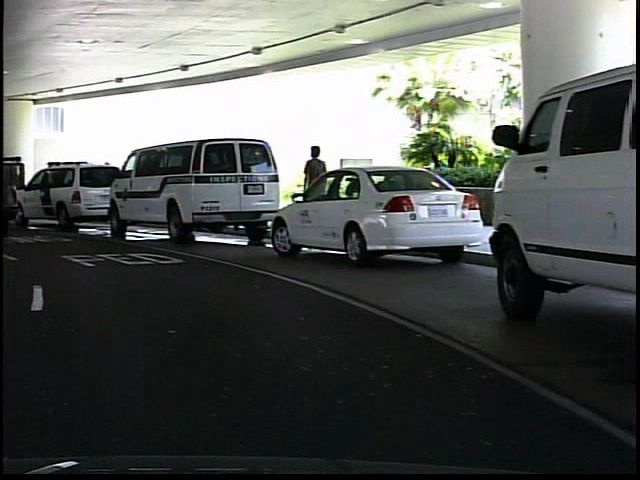person: (296, 143, 330, 232)
